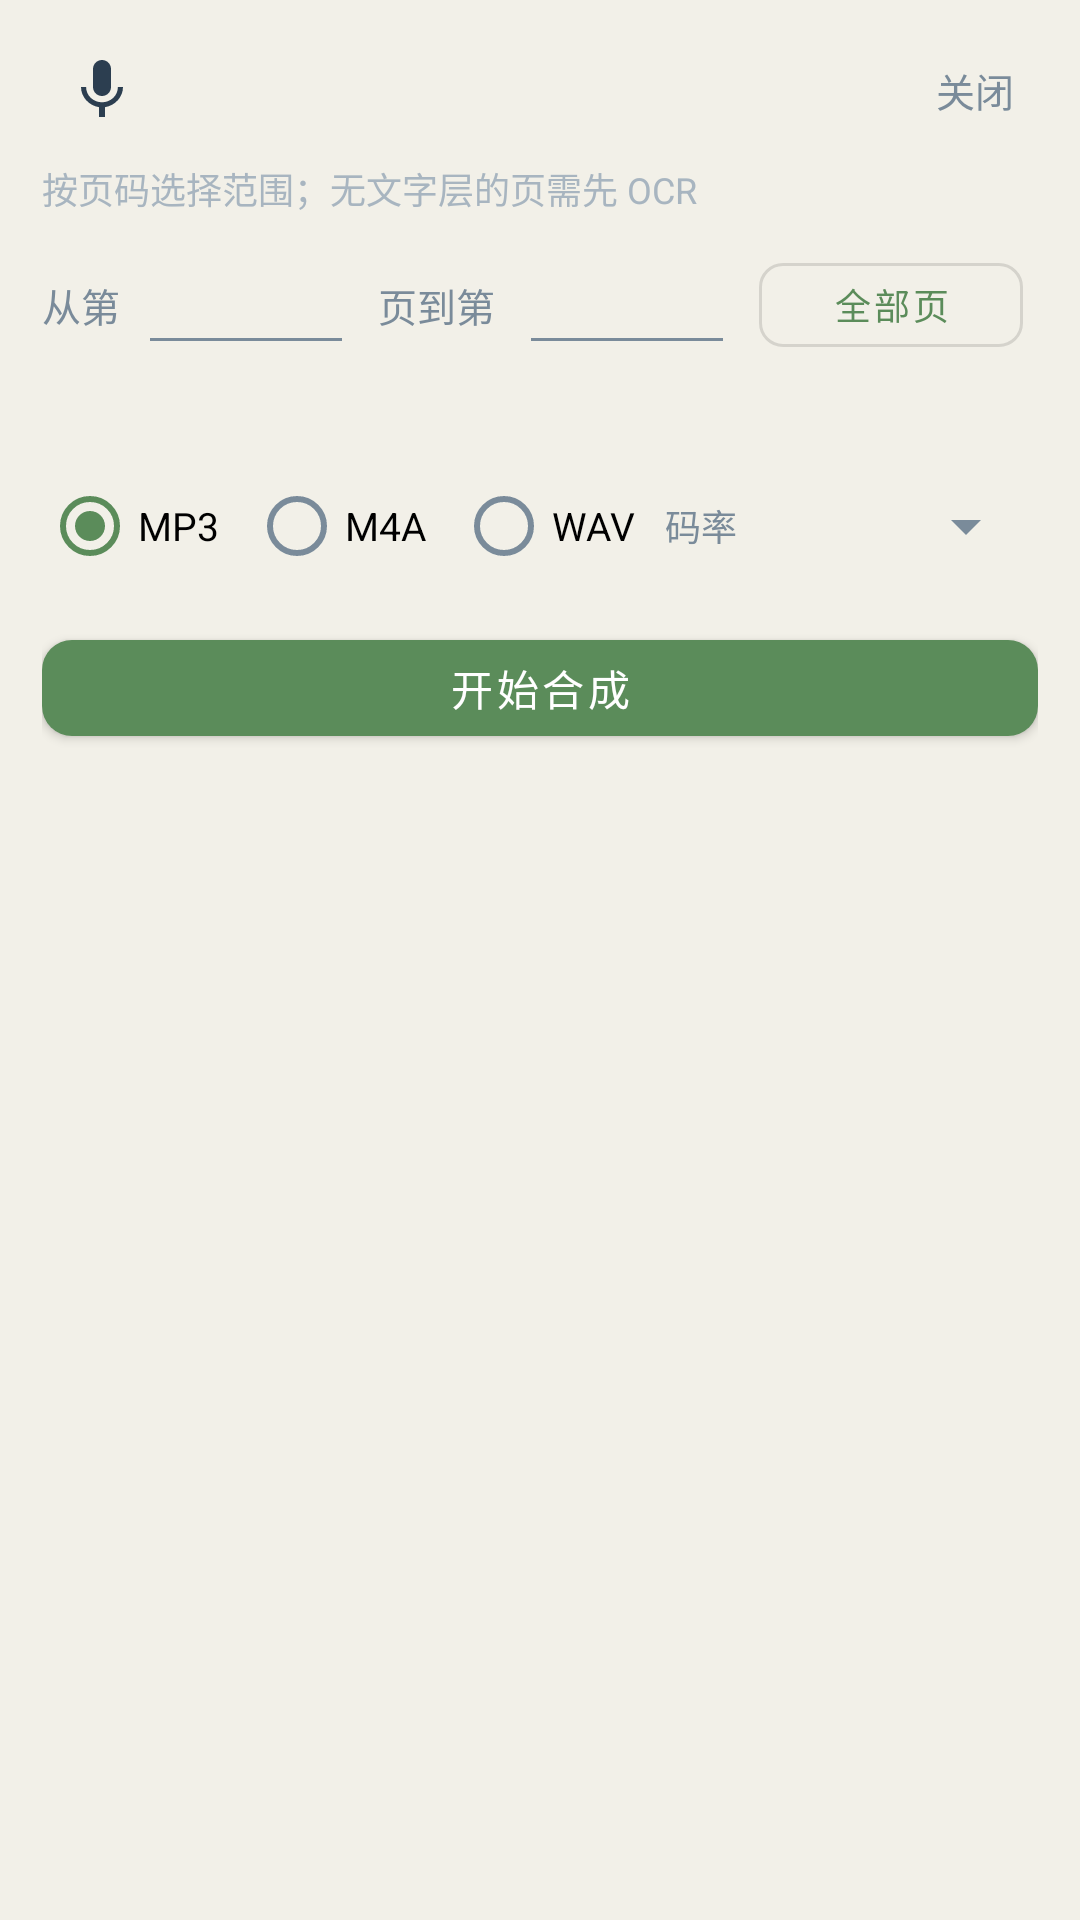

Where icons sit on this 1080x1920 app screen, as rect(x1, y1, x2, y2):
发音人: rect(81, 60, 123, 117)
